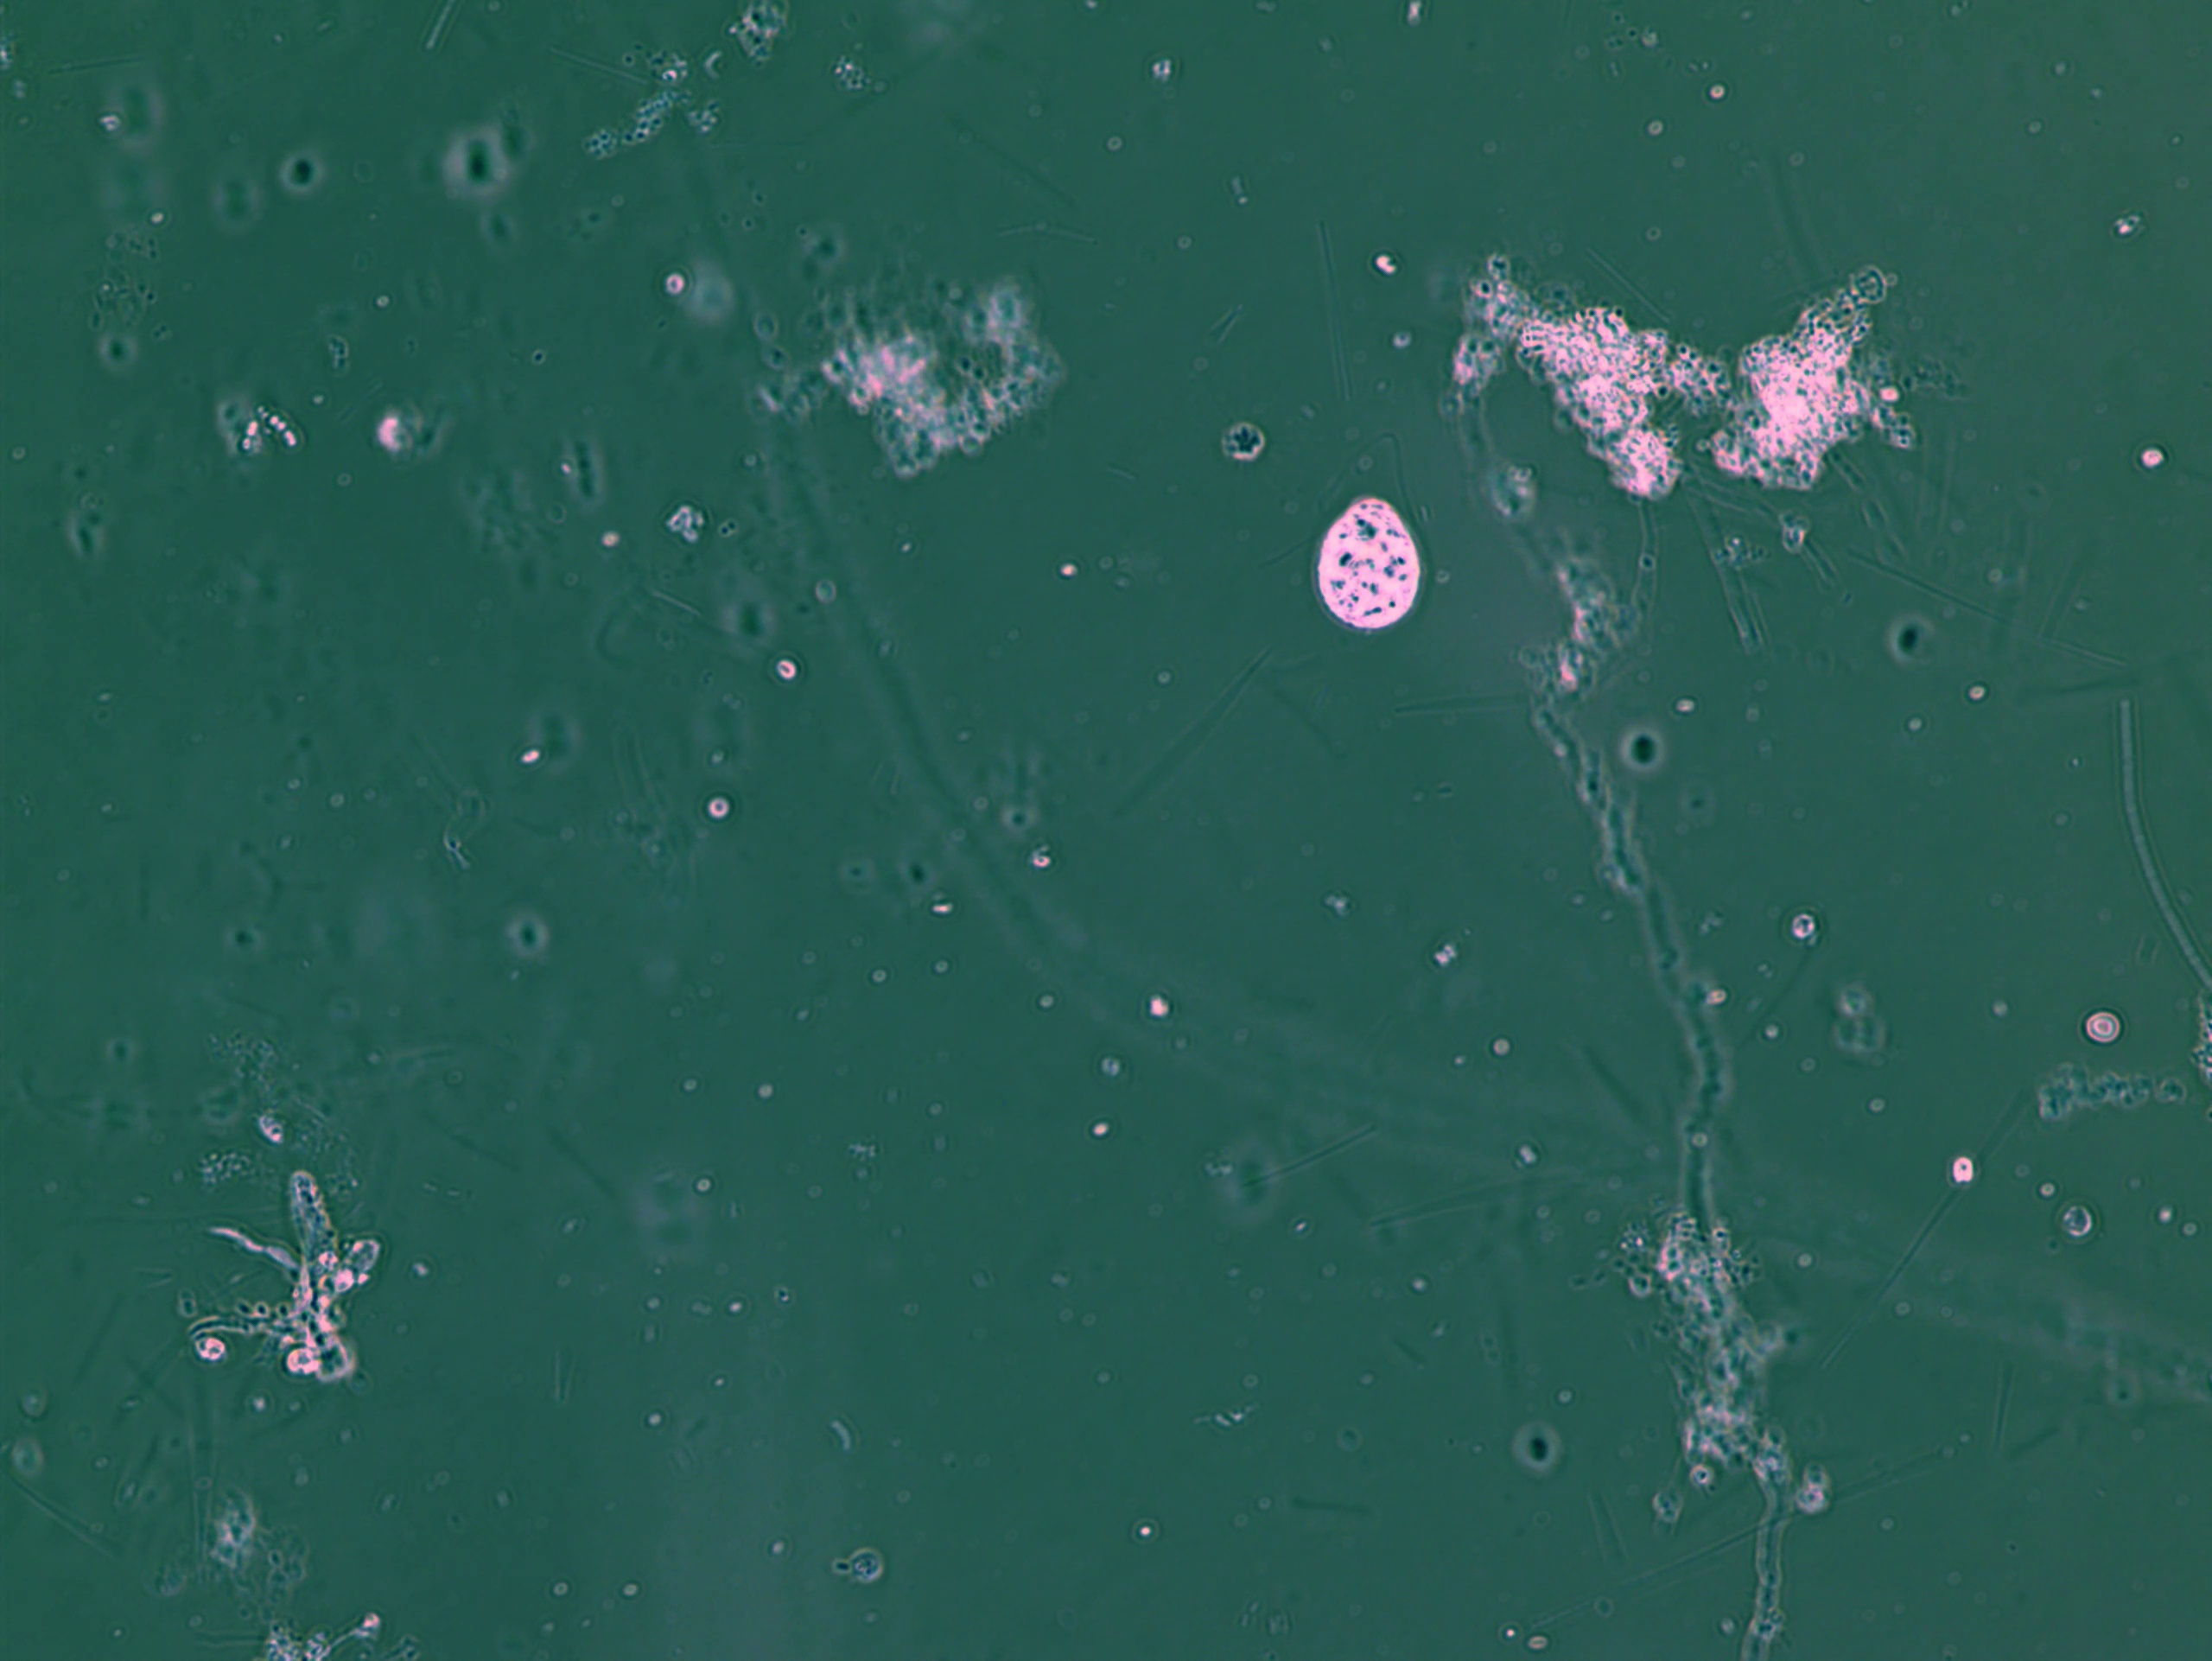depth:0: (1305, 464, 1444, 666)
